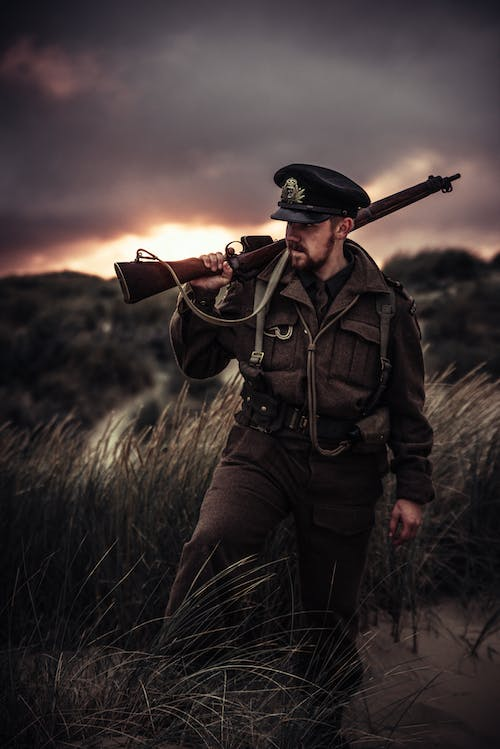gun: (107, 169, 464, 307)
